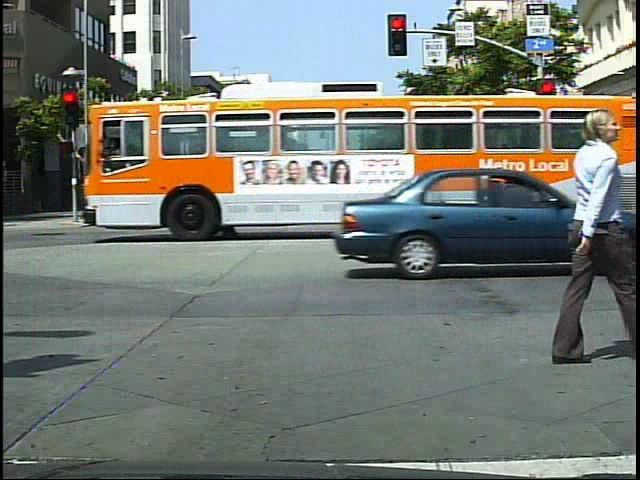person: (540, 92, 630, 395), (300, 165, 331, 229), (204, 167, 233, 233), (325, 166, 354, 230), (548, 160, 571, 211)
